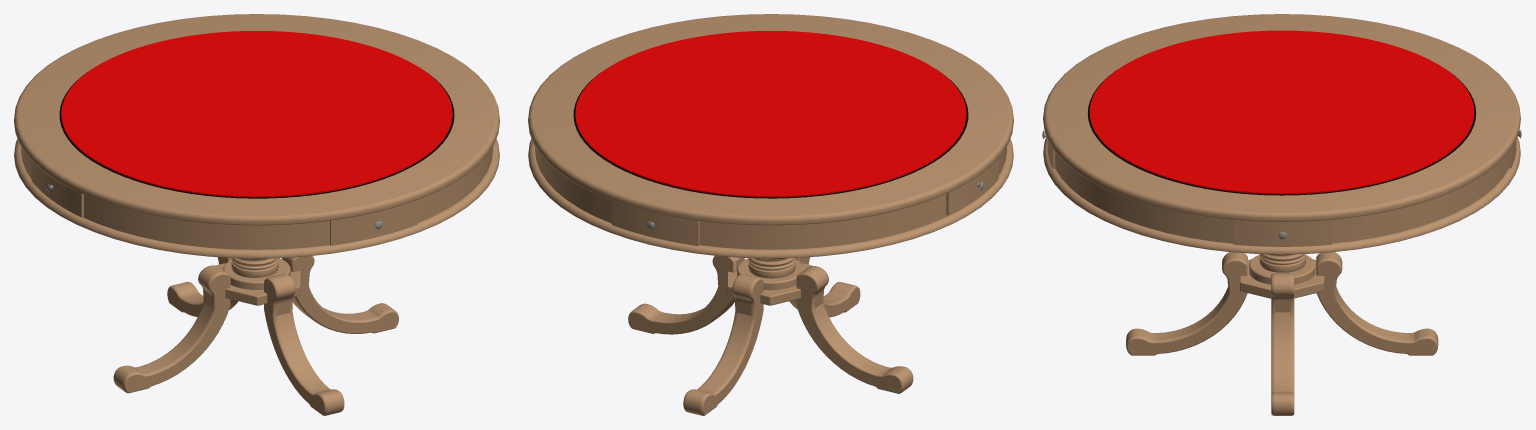
Rendered from mesa-de-jogos-nerello.glb.
The picture shows the model from 3 angles, left to right: view 1: azimuth 30°, elevation 25°; view 2: azimuth 150°, elevation 25°; view 3: azimuth 270°, elevation 25°; orthographic projection.
Visible parts, largest first — view 1: object 5, object 6, object 8, object 9, GAV_10210.dxf (×2), object 10, object 11, object 7, object 13, object 14; view 2: object 5, object 6, object 8, object 11, GAV_10210.dxf (×2), object 10, object 9, object 13, object 7, object 14; view 3: object 5, object 6, object 11, object 9, object 10, GAV_10210.dxf, object 7, object 14, object 13.
Part boxes in pixels (bbox=[...]): object 5: bbox=[59, 31, 454, 198]; object 6: bbox=[14, 14, 499, 258]; object 8: bbox=[113, 265, 230, 393]; object 9: bbox=[264, 273, 344, 415]; GAV_10210.dxf (×2): bbox=[31, 161, 417, 245]; object 10: bbox=[282, 256, 398, 333]; object 11: bbox=[167, 257, 238, 317]; object 7: bbox=[216, 263, 300, 305]; object 13: bbox=[231, 258, 278, 277]; object 14: bbox=[223, 258, 290, 289]; object 5: bbox=[573, 30, 968, 198]; object 6: bbox=[528, 14, 1013, 258]; object 8: bbox=[796, 266, 913, 393]; object 11: bbox=[683, 274, 763, 415]; GAV_10210.dxf (×2): bbox=[612, 158, 998, 245]; object 10: bbox=[628, 255, 744, 334]; object 9: bbox=[789, 257, 860, 317]; object 13: bbox=[748, 258, 795, 278]; object 7: bbox=[727, 263, 812, 305]; object 14: bbox=[737, 258, 804, 290]; object 5: bbox=[1087, 30, 1476, 195]; object 6: bbox=[1043, 14, 1520, 254]; object 11: bbox=[1316, 252, 1438, 355]; object 9: bbox=[1126, 252, 1247, 355]; object 10: bbox=[1271, 273, 1294, 415]; GAV_10210.dxf: bbox=[1233, 220, 1331, 246]; object 7: bbox=[1240, 259, 1324, 298]; object 14: bbox=[1249, 254, 1315, 284]; object 13: bbox=[1259, 254, 1305, 272].
Size of the model in its own units: 1.34 by 0.744 by 1.34.
